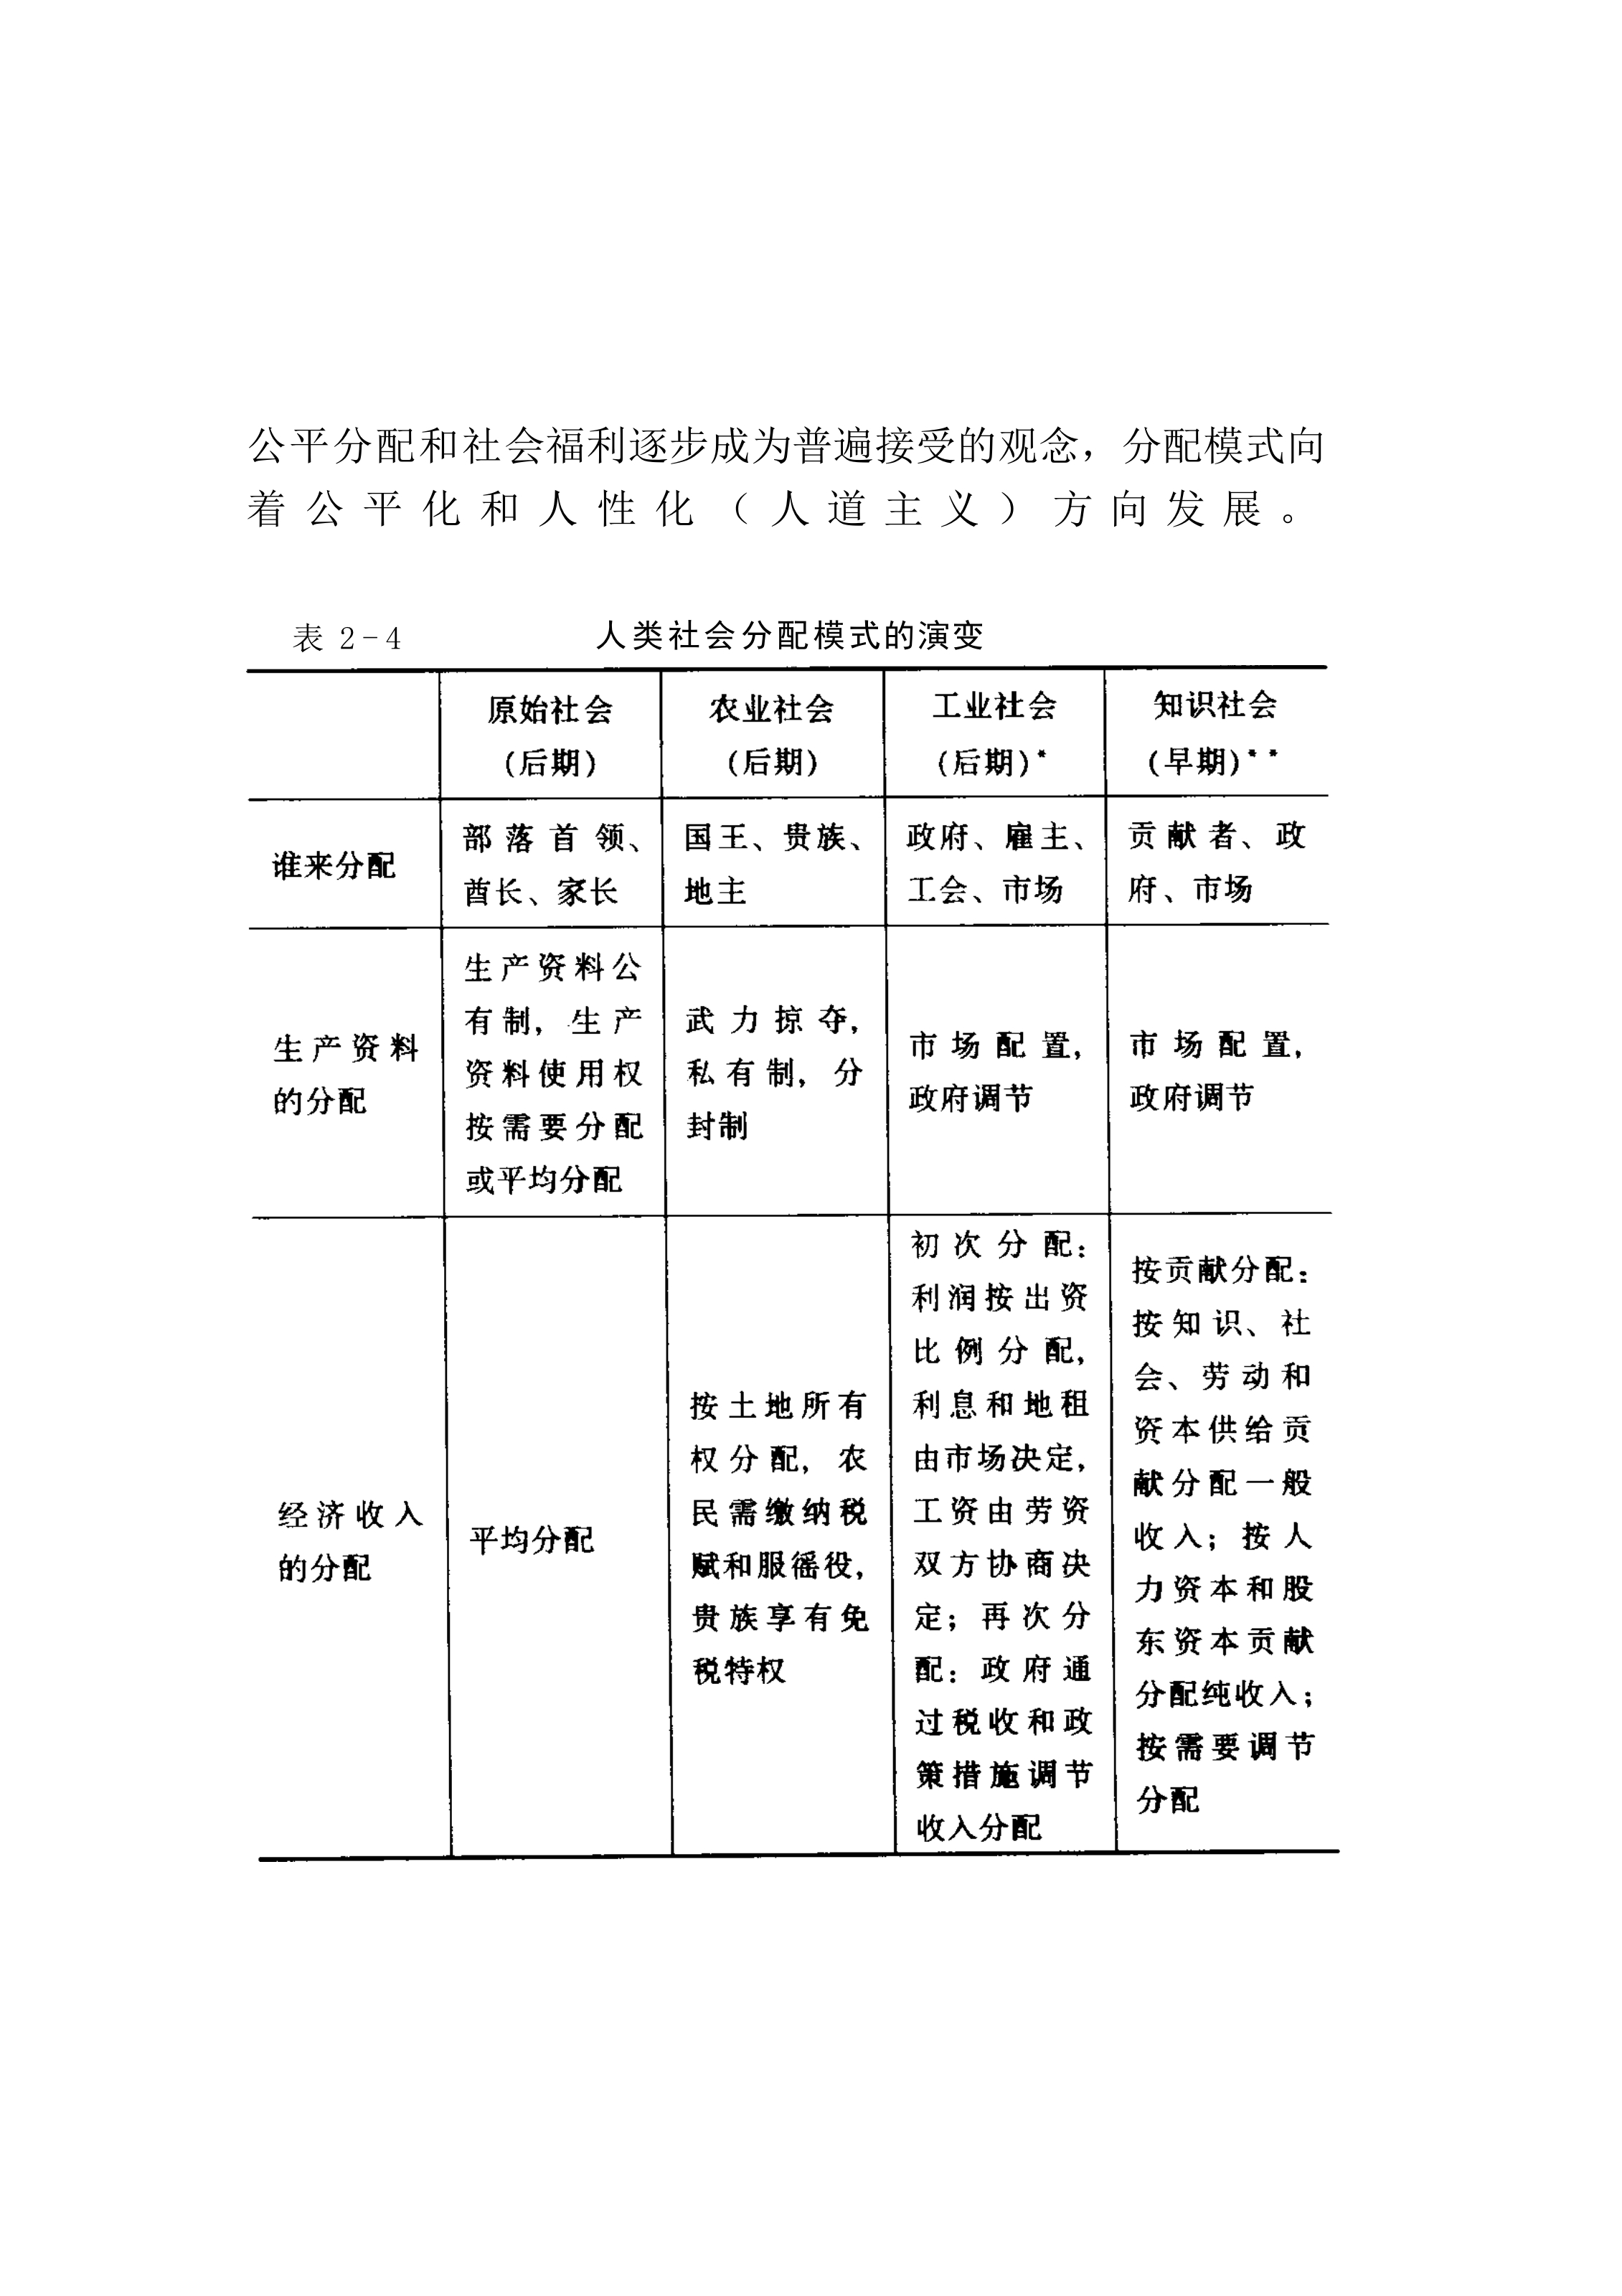table: (246, 665, 1339, 1861)
